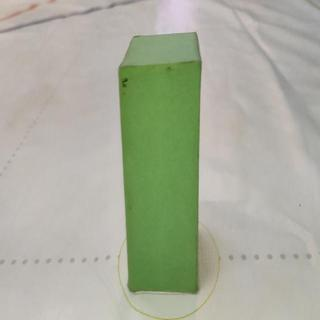greenbox: (119, 31, 202, 293)
